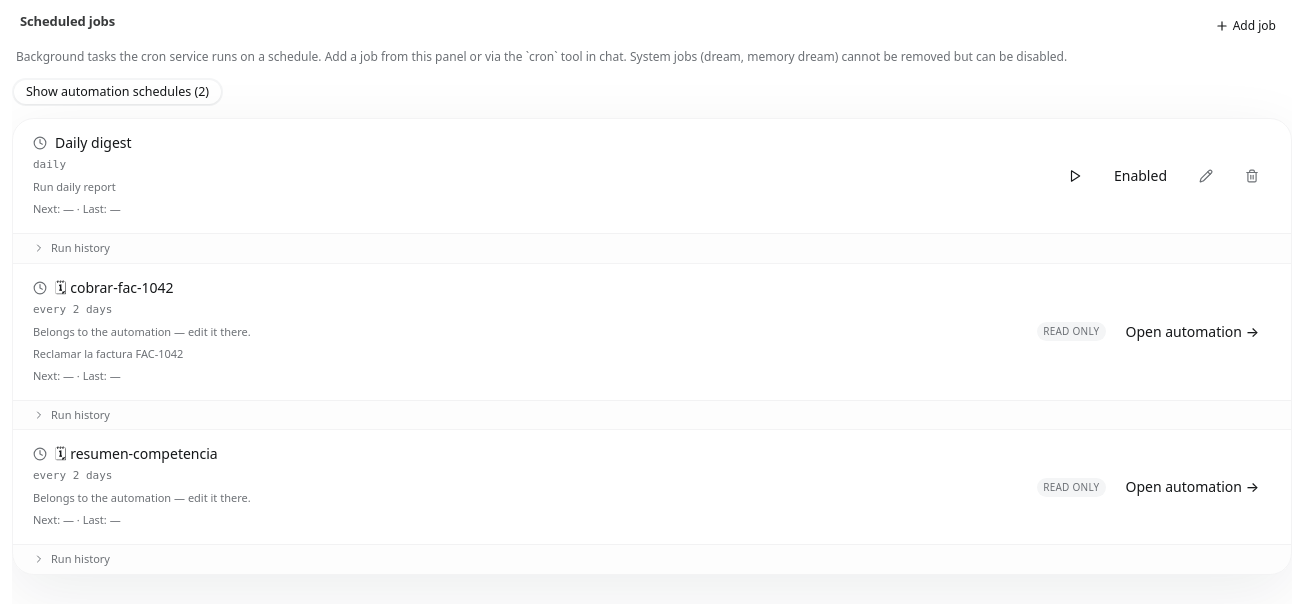
Test: CronSettings – automation-owned rows (read-only) › toggling the pill hides automation rows and leaves user rows visible; toggling again restores them
The width and height of the screenshot is (1304, 604).
Expected: the text "🗓 cobrar-fac-1042" is shown, [55, 278, 174, 298]
Click the button "Show automation schedules (2)" at (118, 92), box [14, 80, 221, 104]
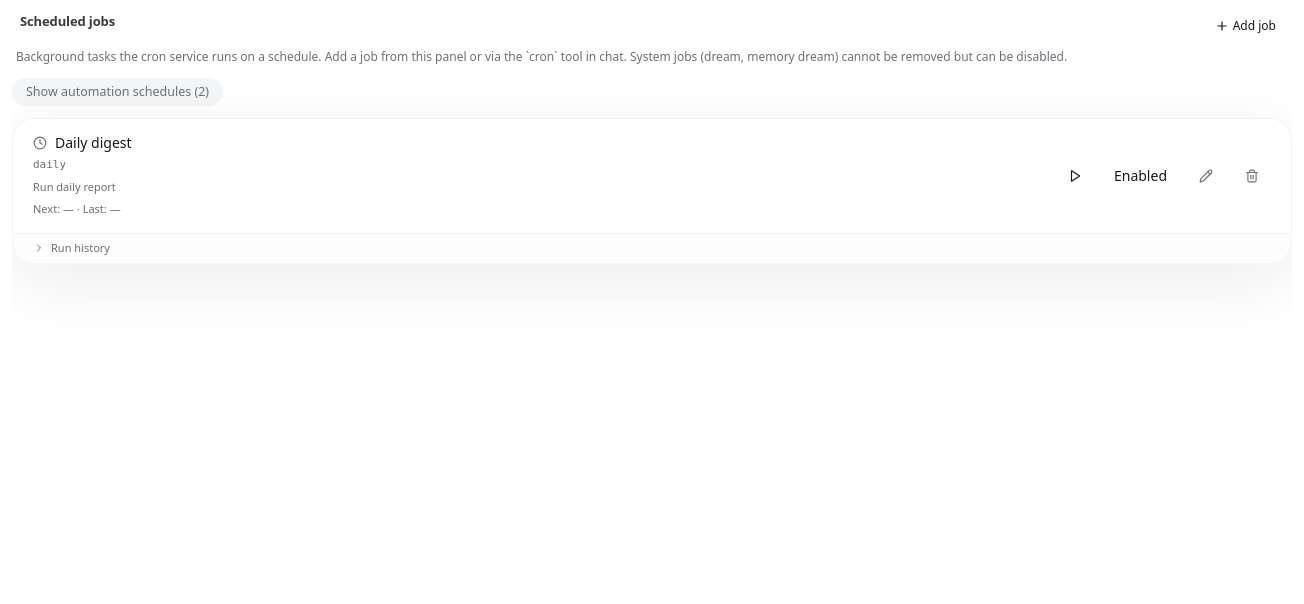
Expected: the text "Daily digest" is shown, [55, 133, 132, 153]
Expected: the text "🗓 cobrar-fac-1042" is gone
Expected: the text "🗓 resumen-competencia" is gone
Click the button "Show automation schedules (2)" at (118, 92), box [14, 80, 221, 104]
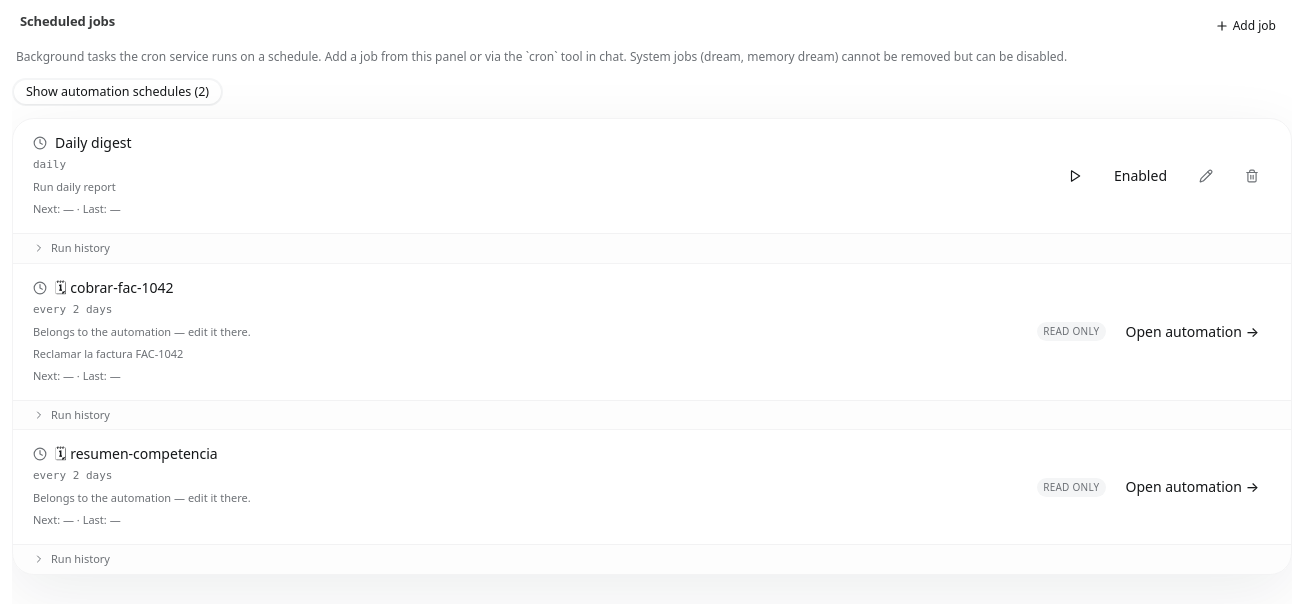
Expected: the text "🗓 cobrar-fac-1042" is shown, [55, 278, 174, 298]
